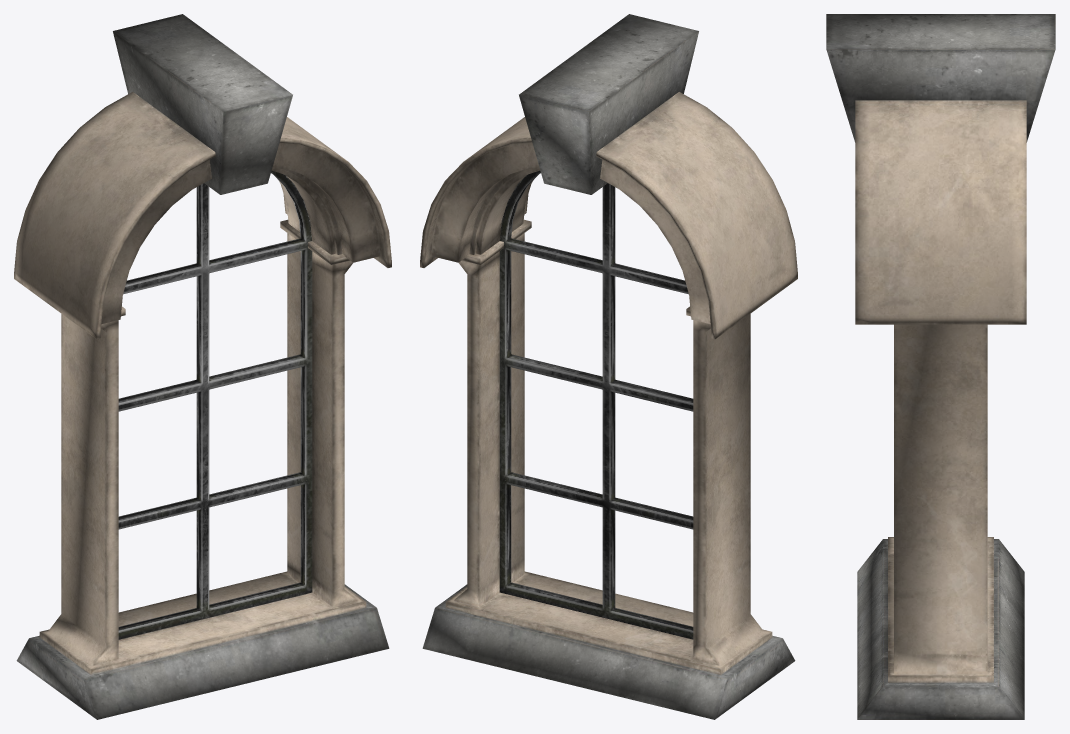
File: 11wind.fbx
3 renders of one model, left to right at view 1: azimuth 30°, elevation 25°; view 2: azimuth 150°, elevation 25°; view 3: azimuth 270°, elevation 25°, orthographic. The views are drawn at different scales.
Visible parts, largest first — view 1: window_low; view 2: window_low; view 3: window_low.
Boxes of the visible parts, x1,y1,x2,y2 form: window_low: (14, 14, 391, 719); window_low: (420, 14, 797, 719); window_low: (826, 14, 1055, 719).
Size of the model in its own units: 104 by 200 by 67.66.
1 material, 1 textured.
